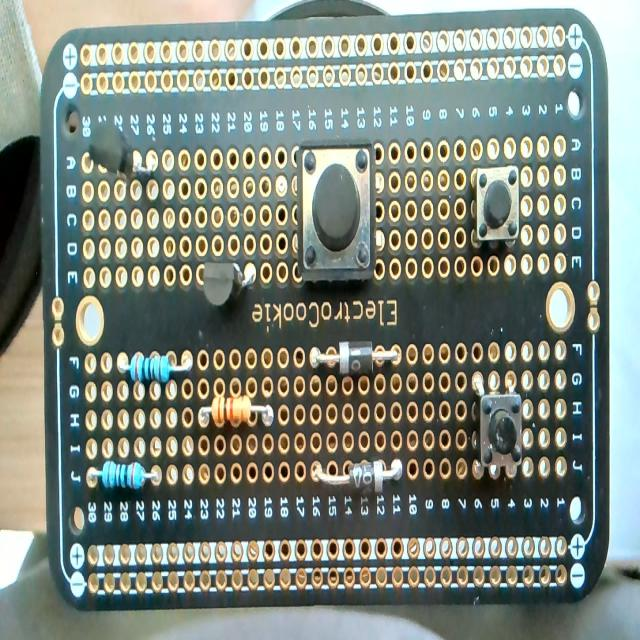diode: (314, 447, 399, 509), (305, 326, 397, 382)
resistor: (191, 389, 274, 435), (128, 349, 188, 407), (94, 452, 154, 498)
switch: (290, 137, 385, 287), (470, 373, 530, 487), (474, 163, 528, 255)
transistor: (189, 244, 267, 318)
